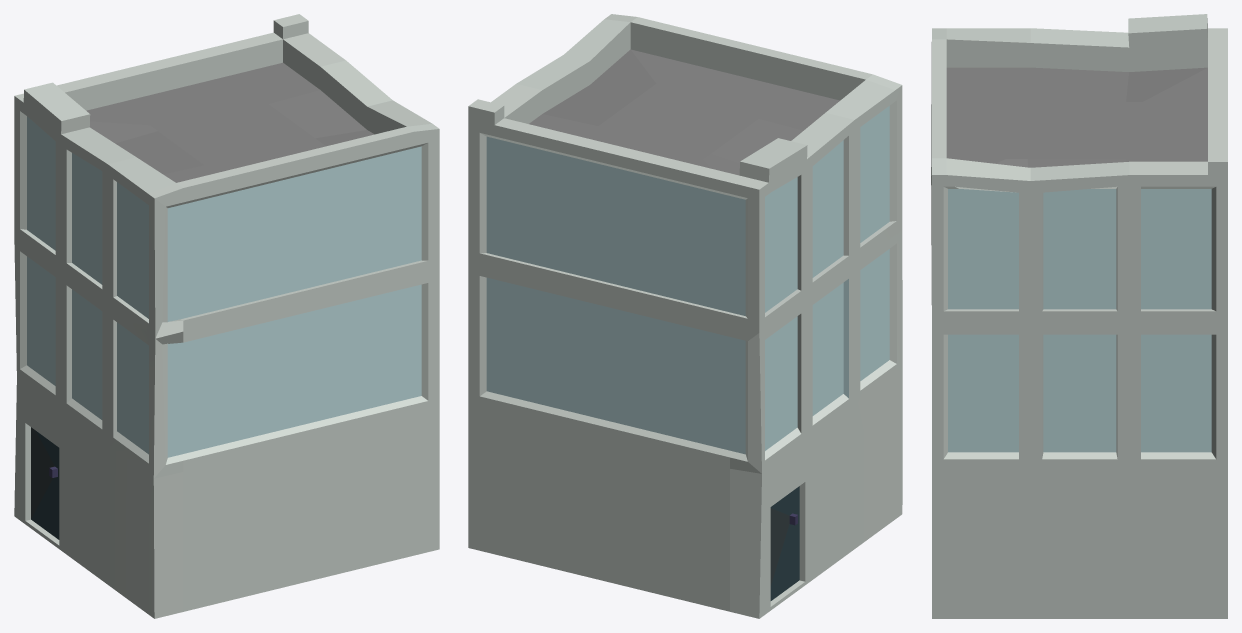
3 renders of one model, left to right at view 1: azimuth 30°, elevation 25°; view 2: azimuth 150°, elevation 25°; view 3: azimuth 270°, elevation 25°, orthographic. The views are drawn at different scales.
Parts seen in each view (by area): view 1: Building_1.002; view 2: Building_1.002; view 3: Building_1.002.
Boxes of the visible parts, <box> form: Building_1.002: <box>14,14,439,618</box>; Building_1.002: <box>468,14,902,618</box>; Building_1.002: <box>931,14,1227,618</box>.
Size of the model in its own units: 477 by 693 by 407.
